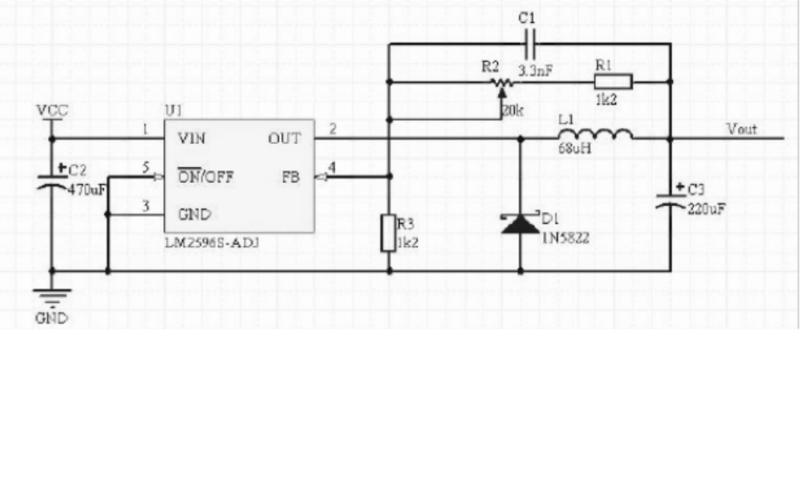cap1: (520, 25, 540, 63)
cap2: (35, 172, 74, 194), (649, 191, 688, 212)
diode: (494, 210, 543, 239)
gnd: (29, 284, 76, 311)
inductance: (552, 127, 638, 146)
res1: (376, 211, 402, 255), (590, 72, 637, 93)
res2: (486, 76, 520, 91)
